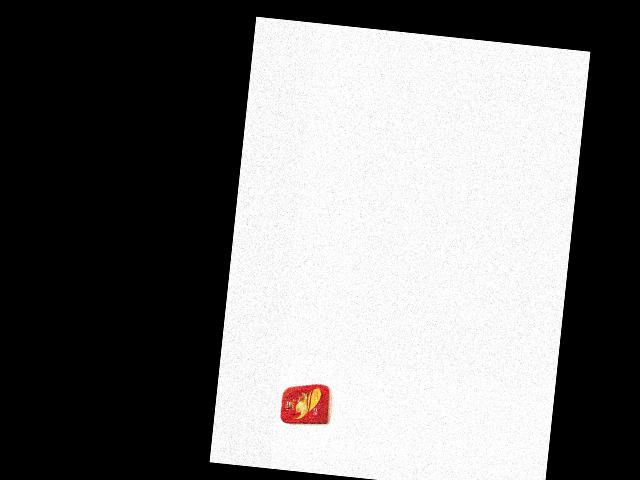cheese: (276, 380, 334, 429)
